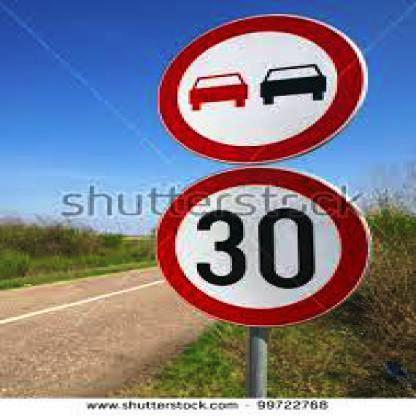Speed Limit -30-: (151, 166, 374, 329)
